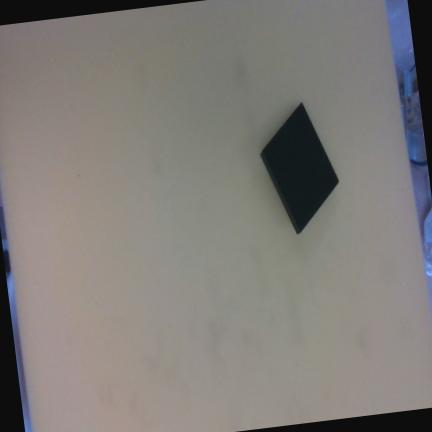tile: (251, 103, 352, 232)
